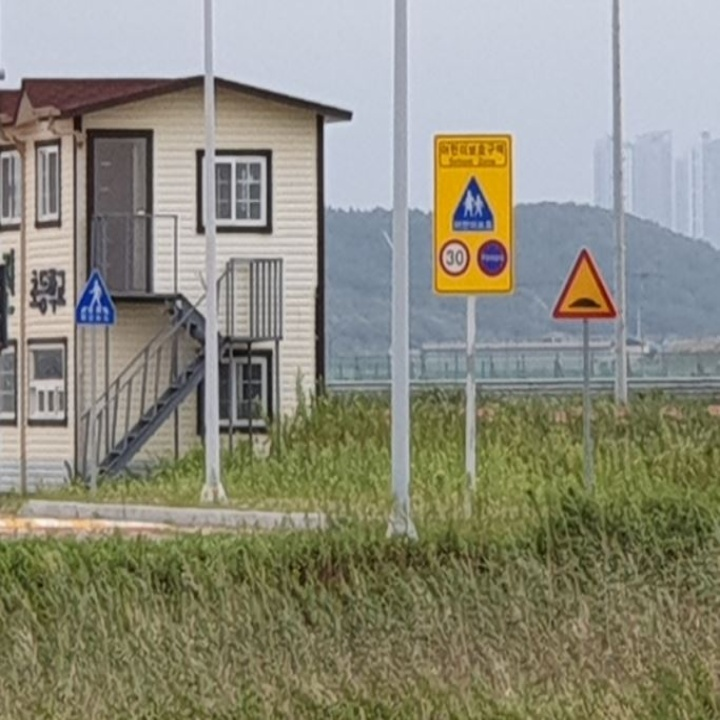bump: (554, 246, 618, 319)
child: (459, 183, 486, 225)
cross: (82, 272, 109, 317)
